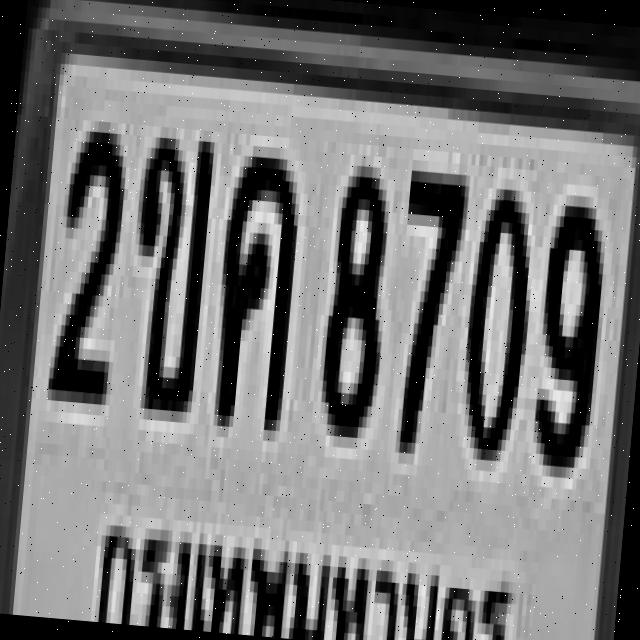0: (454, 176, 536, 451)
11KhorKhai: (120, 125, 212, 412)
13KhorKhwai: (206, 143, 300, 420)
2: (44, 118, 125, 393)
7: (384, 159, 467, 445)
8: (314, 153, 392, 428)
9: (527, 182, 606, 468)
Bangkok: (90, 480, 526, 640)
